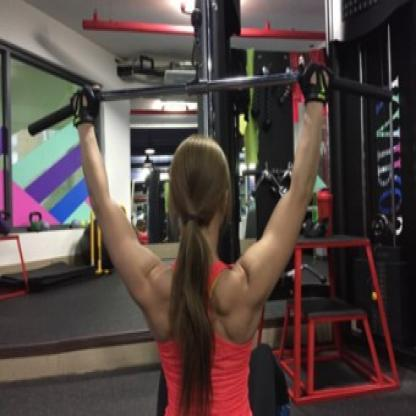Lat Pull Down: (14, 0, 398, 416)
